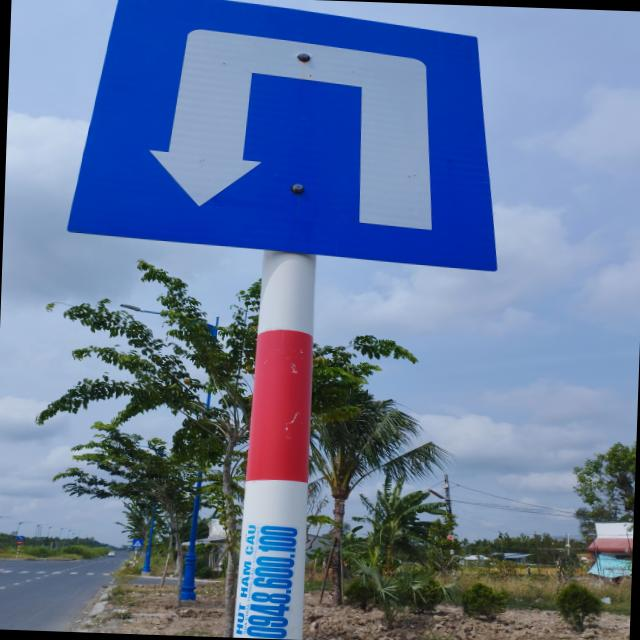Den_Giao_Thong: (63, 0, 506, 272)
